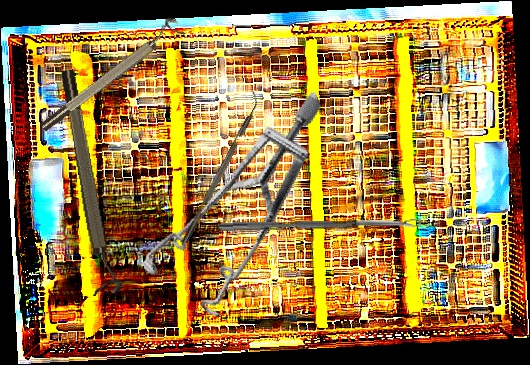Chopper: (174, 90, 266, 244)
Fixation Ring: (33, 14, 187, 135), (56, 66, 124, 297)
Speculum: (106, 89, 379, 337)
Surgical Spoon: (215, 219, 422, 232)
